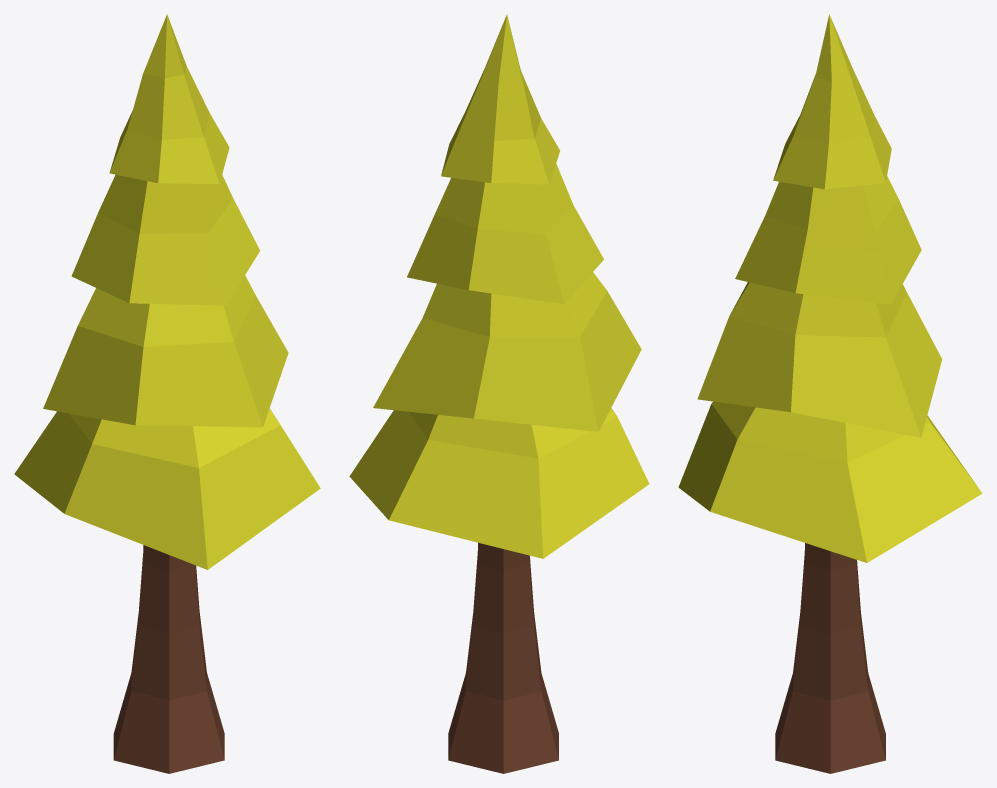
File: Pine_Tree_Yellow_Geo.fbx
The picture shows the model from 3 angles, left to right: view 1: azimuth 30°, elevation 25°; view 2: azimuth 150°, elevation 25°; view 3: azimuth 270°, elevation 25°; orthographic projection.
Parts seen in each view (by area): view 1: Pine_Tree_Yellow_Geo; view 2: Pine_Tree_Yellow_Geo; view 3: Pine_Tree_Yellow_Geo.
Part boxes in pixels (left/top/right/bottom): Pine_Tree_Yellow_Geo: left=14, top=14, right=320, bottom=773; Pine_Tree_Yellow_Geo: left=349, top=14, right=649, bottom=773; Pine_Tree_Yellow_Geo: left=678, top=14, right=982, bottom=773.
Bounding box in the file's own units: 84.42 × 226 × 85.25.
